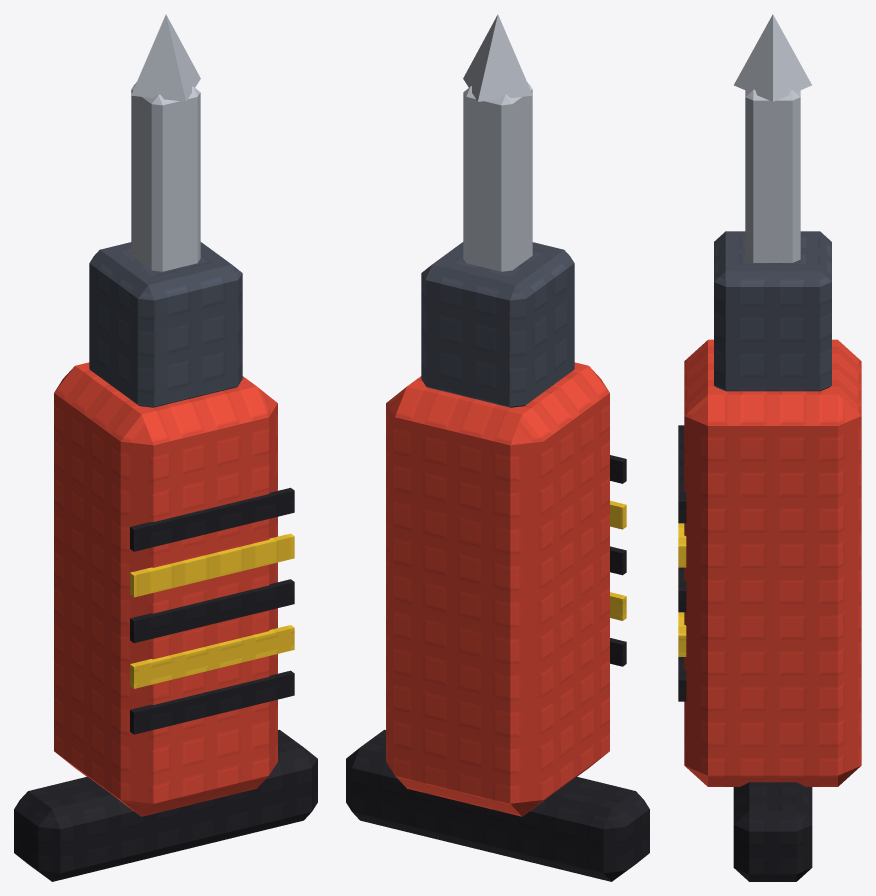
The model's file is outil_16_marteau_piqueur.glb.
The picture shows the model from 3 angles, left to right: view 1: azimuth 30°, elevation 25°; view 2: azimuth 150°, elevation 25°; view 3: azimuth 270°, elevation 25°; orthographic projection. The views are drawn at different scales.
Parts seen in each view (by area): view 1: outil_16_marteau_piqueur; view 2: outil_16_marteau_piqueur; view 3: outil_16_marteau_piqueur.
Part boxes in pixels (bbox=[...]): outil_16_marteau_piqueur: bbox=[14, 14, 317, 881]; outil_16_marteau_piqueur: bbox=[346, 14, 649, 881]; outil_16_marteau_piqueur: bbox=[678, 14, 861, 881].
Size of the model in its own units: 1.6 by 4.53 by 0.93.
1 material, 1 textured.
